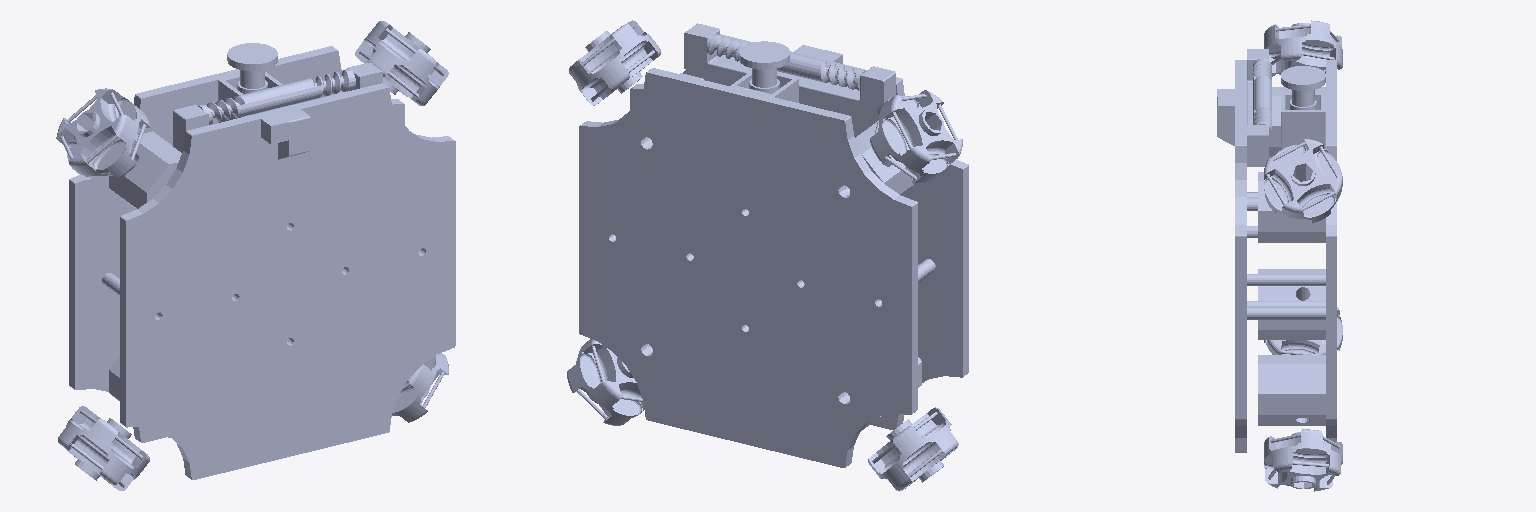
URDF robot description (Assemblage_Final_screen):
<?xml version="1.0" encoding="utf-8"?>
<!-- This URDF was automatically created by SolidWorks to URDF Exporter! Originally created by [author] ([email redacted]) 
     Commit Version: 1.6.0-1-g15f4949  Build Version: 1.6.7594.29634
     For more information, please see http://wiki.ros.org/sw_urdf_exporter -->
<robot
  name="Assemblage_Final_screen">
  <link
    name="base_link">
    <inertial>
      <origin
        xyz="-3.36764174745708E-05 0.00328696212590428 0.0222320352796133"
        rpy="0 0 0" />
      <mass
        value="0.294555995321288" />
      <inertia
        ixx="0.000322164313427195"
        ixy="1.30175420844735E-12"
        ixz="5.26133651820029E-13"
        iyy="0.000327509547850983"
        iyz="-3.0879713845512E-09"
        izz="0.000635117931864016" />
    </inertial>
    <visual>
      <origin
        xyz="0 0 0"
        rpy="0 0 0" />
      <geometry>
        <mesh
          filename="package://Assemblage_Final_screen/meshes/base_link.STL" />
      </geometry>
      <material
        name="">
        <color
          rgba="0.792156862745098 0.819607843137255 0.933333333333333 1" />
      </material>
    </visual>
    <collision>
      <origin
        xyz="0 0 0"
        rpy="0 0 0" />
      <geometry>
        <mesh
          filename="package://Assemblage_Final_screen/meshes/base_link.STL" />
      </geometry>
    </collision>
  </link>
  <link
    name="Front_wheel_right">
    <inertial>
      <origin
        xyz="0.0679474103230555 0.0679375737037698 0.0150009321215532"
        rpy="0 0 0" />
      <mass
        value="0.00724973023994767" />
      <inertia
        ixx="7.88426531983981E-07"
        ixy="1.40999079451543E-07"
        ixz="-5.03997373698836E-11"
        iyy="7.88876113361559E-07"
        iyz="1.07424644948904E-11"
        izz="6.48207019404156E-07" />
    </inertial>
    <visual>
      <origin
        xyz="0 0 0"
        rpy="0 0 0" />
      <geometry>
        <mesh
          filename="package://Assemblage_Final_screen/meshes/Front_wheel_right.STL" />
      </geometry>
      <material
        name="">
        <color
          rgba="0.792156862745098 0.819607843137255 0.933333333333333 1" />
      </material>
    </visual>
    <collision>
      <origin
        xyz="0 0 0"
        rpy="0 0 0" />
      <geometry>
        <mesh
          filename="package://Assemblage_Final_screen/meshes/Front_wheel_right.STL" />
      </geometry>
    </collision>
  </link>
  <joint
    name="joint_fwr"
    type="revolute">
    <origin
      xyz="0 0 0"
      rpy="1.5708 0 0" />
    <parent
      link="base_link" />
    <child
      link="Front_wheel_right" />
    <axis
      xyz="-0.70711 -0.70711 0" />
    <limit
      lower="0"
      upper="0"
      effort="30"
      velocity="30" />
  </joint>
  <link
    name="Front_wheel_left">
    <inertial>
      <origin
        xyz="-0.068047308685908 0.0679456224644817 0.0150049334467605"
        rpy="0 0 0" />
      <mass
        value="0.00724972587827654" />
      <inertia
        ixx="7.88944328117855E-07"
        ixy="-1.40851114467568E-07"
        ixz="-7.71321401964403E-11"
        iyy="7.88678110925621E-07"
        iyz="-3.36110274270845E-10"
        izz="6.47911028700709E-07" />
    </inertial>
    <visual>
      <origin
        xyz="0 0 0"
        rpy="0 0 0" />
      <geometry>
        <mesh
          filename="package://Assemblage_Final_screen/meshes/Front_wheel_left.STL" />
      </geometry>
      <material
        name="">
        <color
          rgba="0.792156862745098 0.819607843137255 0.933333333333333 1" />
      </material>
    </visual>
    <collision>
      <origin
        xyz="0 0 0"
        rpy="0 0 0" />
      <geometry>
        <mesh
          filename="package://Assemblage_Final_screen/meshes/Front_wheel_left.STL" />
      </geometry>
    </collision>
  </link>
  <joint
    name="joint_fwl"
    type="revolute">
    <origin
      xyz="0 0 0"
      rpy="1.5708 0 0" />
    <parent
      link="base_link" />
    <child
      link="Front_wheel_left" />
    <axis
      xyz="0.70711 -0.70711 0" />
    <limit
      lower="0"
      upper="0"
      effort="30"
      velocity="30" />
  </joint>
  <link
    name="Back_wheel_left">
    <inertial>
      <origin
        xyz="-0.0680521395376327 -0.068048675918026 0.0150057997833263"
        rpy="0 0 0" />
      <mass
        value="0.0072497341832853" />
      <inertia
        ixx="7.88767756645588E-07"
        ixy="1.40728642634861E-07"
        ixz="3.19755482917525E-10"
        iyy="7.8888726068708E-07"
        iyz="-1.05432866208393E-11"
        izz="6.4766613789166E-07" />
    </inertial>
    <visual>
      <origin
        xyz="0 0 0"
        rpy="0 0 0" />
      <geometry>
        <mesh
          filename="package://Assemblage_Final_screen/meshes/Back_wheel_left.STL" />
      </geometry>
      <material
        name="">
        <color
          rgba="0.792156862745098 0.819607843137255 0.933333333333333 1" />
      </material>
    </visual>
    <collision>
      <origin
        xyz="0 0 0"
        rpy="0 0 0" />
      <geometry>
        <mesh
          filename="package://Assemblage_Final_screen/meshes/Back_wheel_left.STL" />
      </geometry>
    </collision>
  </link>
  <joint
    name="joint_bwl"
    type="revolute">
    <origin
      xyz="0 0 0"
      rpy="1.5708 0 0" />
    <parent
      link="base_link" />
    <child
      link="Back_wheel_left" />
    <axis
      xyz="0.70711 0.70711 0" />
    <limit
      lower="0"
      upper="0"
      effort="30"
      velocity="30" />
  </joint>
  <link
    name="Back_wheel_right">
    <inertial>
      <origin
        xyz="0.0679443938824221 -0.0680485465011233 0.0149953566382997"
        rpy="0 0 0" />
      <mass
        value="0.00724972405984418" />
      <inertia
        ixx="7.88589520838095E-07"
        ixy="-1.40852823342395E-07"
        ixz="3.29188974791185E-10"
        iyy="7.88884686151281E-07"
        iyz="8.6517145723478E-11"
        izz="6.47914396996865E-07" />
    </inertial>
    <visual>
      <origin
        xyz="0 0 0"
        rpy="0 0 0" />
      <geometry>
        <mesh
          filename="package://Assemblage_Final_screen/meshes/Back_wheel_right.STL" />
      </geometry>
      <material
        name="">
        <color
          rgba="0.792156862745098 0.819607843137255 0.933333333333333 1" />
      </material>
    </visual>
    <collision>
      <origin
        xyz="0 0 0"
        rpy="0 0 0" />
      <geometry>
        <mesh
          filename="package://Assemblage_Final_screen/meshes/Back_wheel_right.STL" />
      </geometry>
    </collision>
  </link>
  <joint
    name="joint_bwr"
    type="revolute">
    <origin
      xyz="0 0 0"
      rpy="1.5708 0 0" />
    <parent
      link="base_link" />
    <child
      link="Back_wheel_right" />
    <axis
      xyz="-0.70711 0.70711 0" />
    <limit
      lower="0"
      upper="0"
      effort="30"
      velocity="30" />
  </joint>
  <link
    name="Puncher">
    <inertial>
      <origin
        xyz="4.03144529135048E-06 0.0724148897585424 0.015"
        rpy="0 0 0" />
      <mass
        value="0.00369309449504573" />
      <inertia
        ixx="5.75725025300449E-07"
        ixy="-4.0226163827001E-25"
        ixz="-2.78484139559519E-24"
        iyy="8.15301292989161E-08"
        iyz="2.49884450097179E-24"
        izz="5.75725025300449E-07" />
    </inertial>
    <visual>
      <origin
        xyz="0 0 0"
        rpy="0 0 0" />
      <geometry>
        <mesh
          filename="package://Assemblage_Final_screen/meshes/Puncher.STL" />
      </geometry>
      <material
        name="">
        <color
          rgba="0.792156862745098 0.819607843137255 0.933333333333333 1" />
      </material>
    </visual>
    <collision>
      <origin
        xyz="0 0 0"
        rpy="0 0 0" />
      <geometry>
        <mesh
          filename="package://Assemblage_Final_screen/meshes/Puncher.STL" />
      </geometry>
    </collision>
  </link>
  <joint
    name="joint_puncher"
    type="prismatic">
    <origin
      xyz="0 0 0"
      rpy="1.5708 0 0" />
    <parent
      link="base_link" />
    <child
      link="Puncher" />
    <axis
      xyz="0 1 0" />
    <limit
      lower="0"
      upper="0"
      effort="15"
      velocity="15" />
  </joint>
  <link
    name="Dribler">
    <inertial>
      <origin
        xyz="4.00335100889255E-06 0.0762395435802442 0.0330494492700799"
        rpy="0 0 0" />
      <mass
        value="0.00318530208649366" />
      <inertia
        ixx="2.58025286341316E-08"
        ixy="1.33794525581002E-12"
        ixz="2.1150669356568E-13"
        iyy="1.12220325904938E-06"
        iyz="8.01371069730298E-11"
        izz="1.12183936495586E-06" />
    </inertial>
    <visual>
      <origin
        xyz="0 0 0"
        rpy="0 0 0" />
      <geometry>
        <mesh
          filename="package://Assemblage_Final_screen/meshes/Dribler.STL" />
      </geometry>
      <material
        name="">
        <color
          rgba="0.792156862745098 0.819607843137255 0.933333333333333 1" />
      </material>
    </visual>
    <collision>
      <origin
        xyz="0 0 0"
        rpy="0 0 0" />
      <geometry>
        <mesh
          filename="package://Assemblage_Final_screen/meshes/Dribler.STL" />
      </geometry>
    </collision>
  </link>
  <joint
    name="joint_dribler"
    type="revolute">
    <origin
      xyz="0 0 0"
      rpy="1.5708 0 0" />
    <parent
      link="base_link" />
    <child
      link="Dribler" />
    <axis
      xyz="-1 0 0" />
    <limit
      lower="0"
      upper="0"
      effort="10"
      velocity="10" />
  </joint>
</robot>

--- Facts derived from the render (not from the file) ---
Views: 3 orthographic renders of the robot side by side, from view 1: azimuth 30°, elevation 25°; view 2: azimuth 150°, elevation 25°; view 3: azimuth 270°, elevation 25°.
Robot: Assemblage_Final_screen — 7 links, 6 joints (5 revolute, 1 prismatic); root link base_link; default pose: every joint at zero.
Links seen in each view (by area): view 1: base_link, Front_wheel_left, Back_wheel_left, Front_wheel_right, Dribler, Back_wheel_right, Puncher; view 2: base_link, Front_wheel_left, Front_wheel_right, Back_wheel_left, Back_wheel_right, Dribler, Puncher; view 3: base_link, Front_wheel_right, Back_wheel_right, Front_wheel_left, Puncher, Dribler, Back_wheel_left.
Link boxes in pixels (x1,y1,x2,y2): base_link: (69, 46, 455, 479); Front_wheel_left: (56, 88, 149, 179); Back_wheel_left: (58, 406, 149, 490); Front_wheel_right: (355, 21, 448, 105); Dribler: (198, 69, 355, 124); Back_wheel_right: (392, 353, 448, 422); Puncher: (227, 43, 277, 88); base_link: (579, 23, 968, 467); Front_wheel_left: (870, 90, 962, 183); Front_wheel_right: (569, 20, 660, 105); Back_wheel_left: (868, 407, 958, 491); Back_wheel_right: (567, 339, 643, 425); Dribler: (706, 34, 865, 90); Puncher: (739, 41, 789, 87); base_link: (1217, 49, 1336, 452); Front_wheel_right: (1264, 139, 1342, 223); Back_wheel_right: (1264, 429, 1342, 491); Front_wheel_left: (1264, 20, 1342, 76); Puncher: (1281, 66, 1325, 106); Dribler: (1253, 58, 1271, 137); Back_wheel_left: (1264, 307, 1342, 354).
Size in the robot's own frame: 0.1718 by 0.0555 by 0.174 metres.
7 mesh visuals loaded from 7 distinct referenced files (7 binary STL).